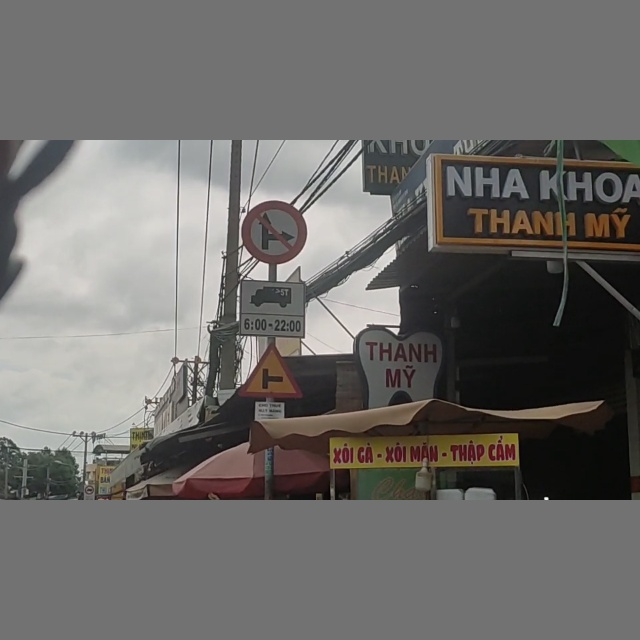P.139: (243, 201, 305, 263)
S.505a*Xe tai: (239, 281, 305, 337)
W.205b: (237, 343, 302, 397)
